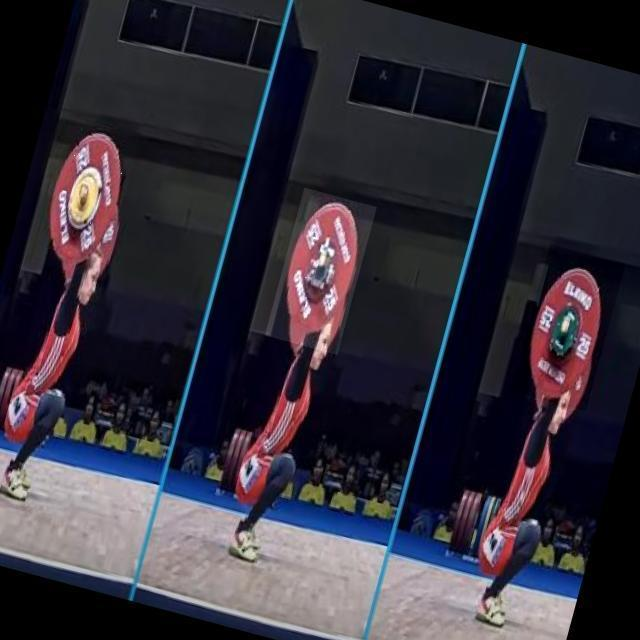barbell: (511, 245, 626, 412), (265, 189, 377, 356), (32, 117, 141, 281)
